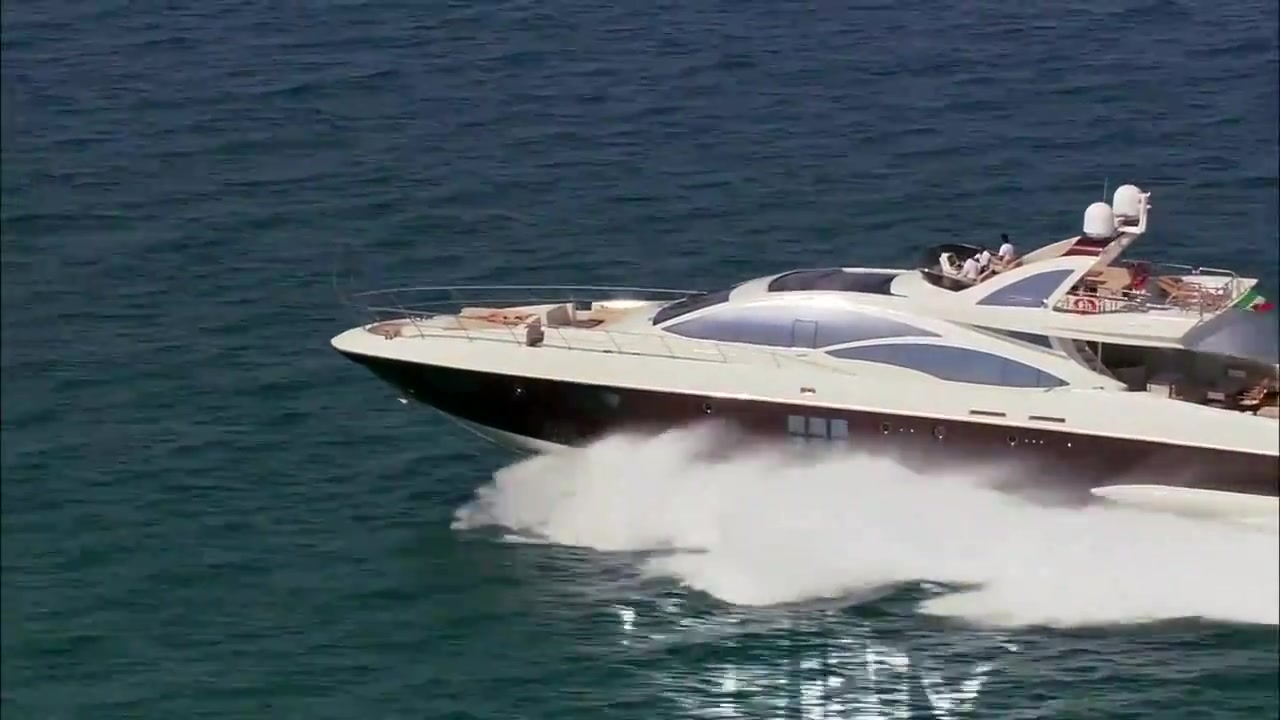boat: (323, 184, 1280, 519)
